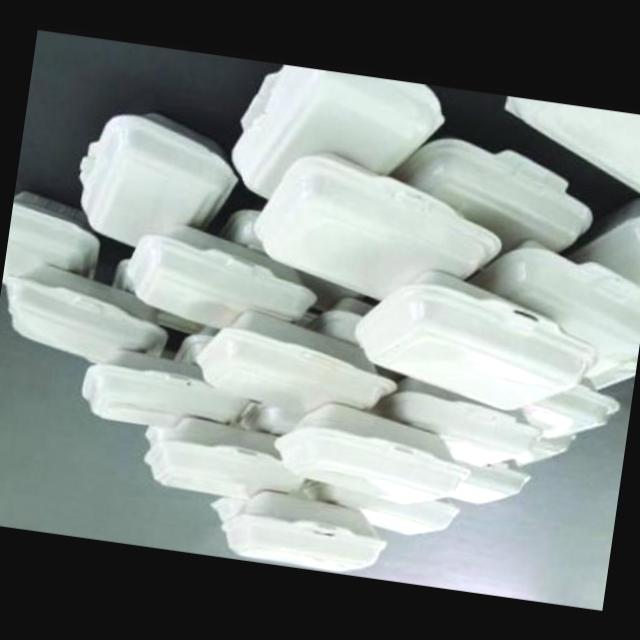xop: (254, 150, 495, 300), (355, 268, 599, 409), (230, 65, 444, 197), (467, 239, 640, 379), (391, 137, 595, 252), (77, 112, 240, 249), (195, 312, 398, 410), (275, 404, 470, 504), (133, 228, 317, 328), (2, 265, 169, 365), (374, 376, 541, 467), (142, 417, 312, 498), (222, 491, 388, 573), (506, 97, 640, 194), (81, 355, 249, 429), (303, 481, 466, 537), (2, 191, 99, 280), (561, 197, 640, 286), (519, 377, 621, 441), (452, 461, 530, 505), (581, 355, 638, 391)
